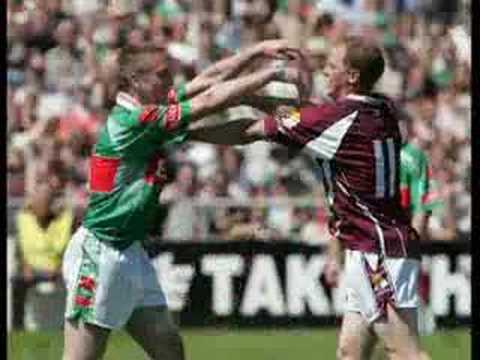player: (304, 43, 438, 349), (66, 28, 186, 354)
